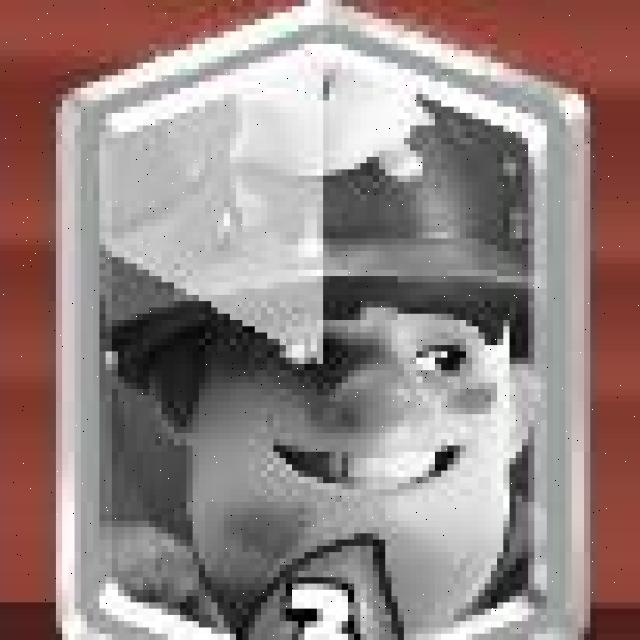Miner: (51, 3, 591, 640)
